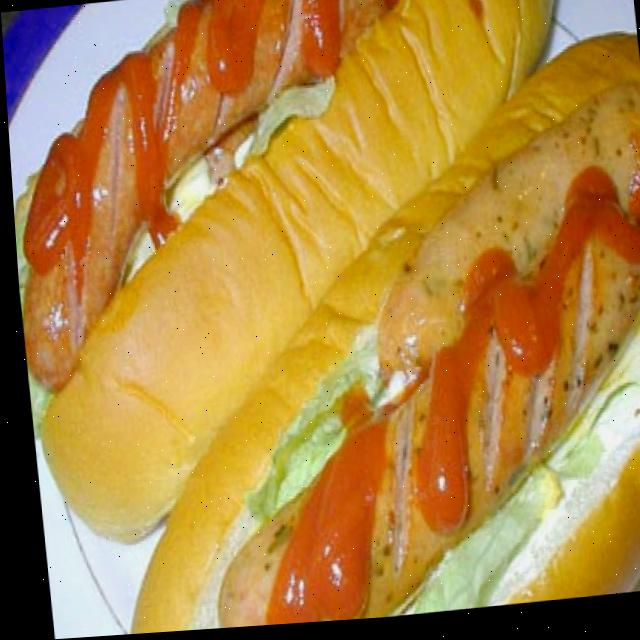汉堡快餐: (55, 24, 640, 637), (0, 0, 618, 542)
